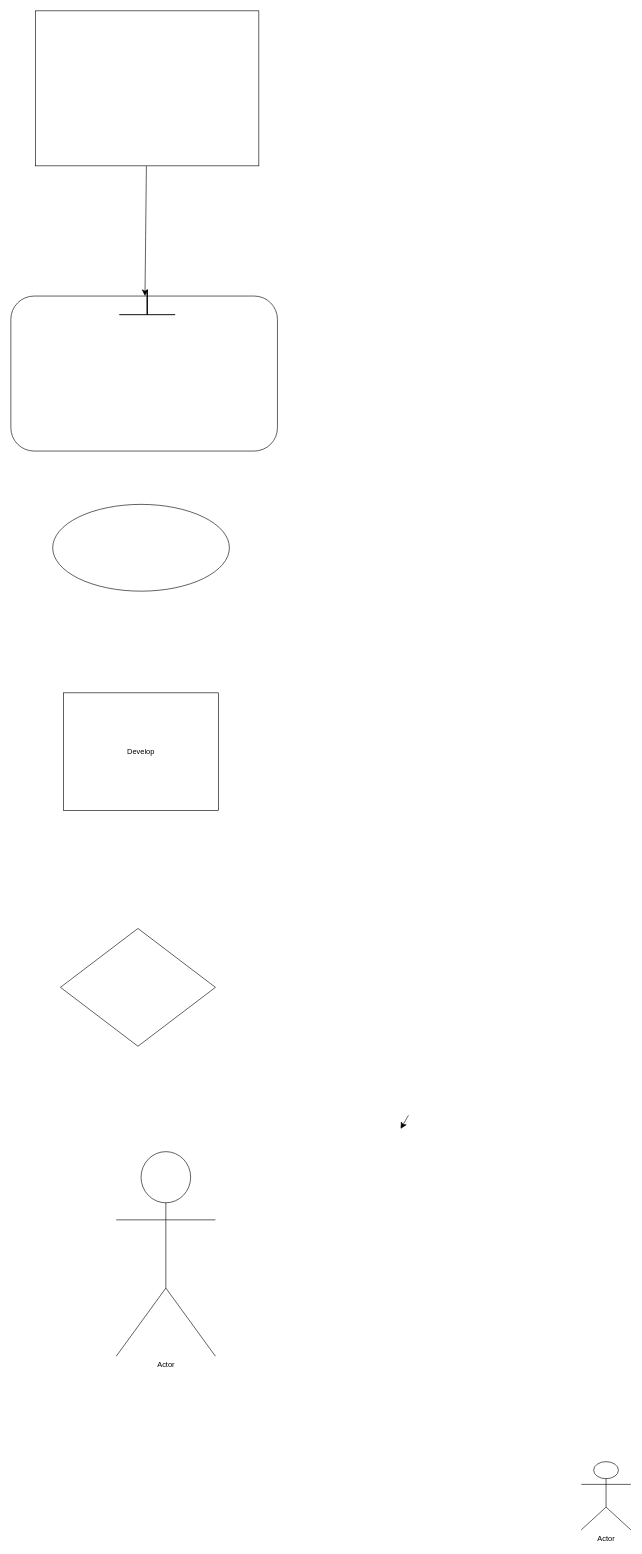
This 642x1554 diagram has some shape labels left out. Here are the shapes that lost their labels. From the top down, the centre of each, then its label:
At [147,88]: "Test".
At [140,547]: "Build".
